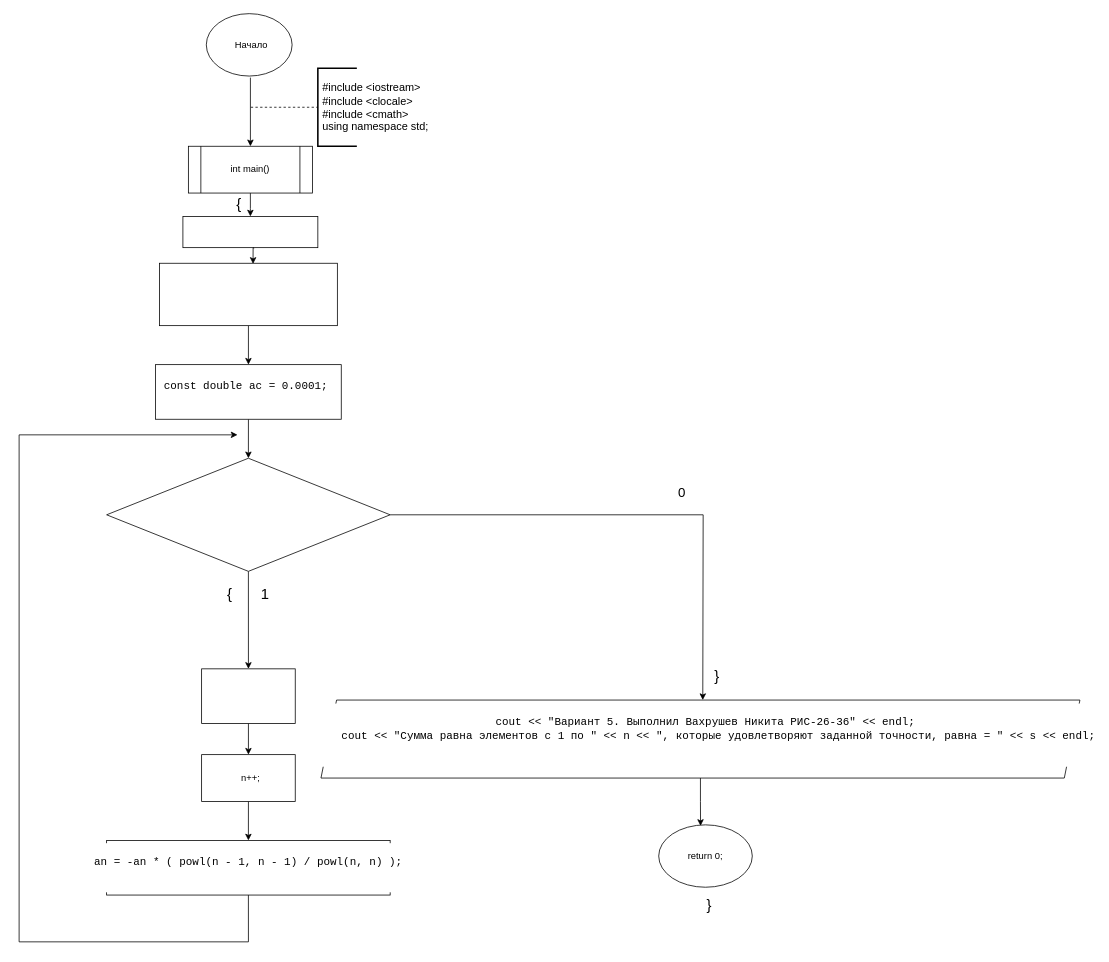
Image size: 1109x962. Some labels were removed from this diagram. The box of each missing label's shape, as (x1, y1, x2, y2) in pixels:
double s = 0 , n = 1 , an = 1 ;: (159, 262, 337, 326)
s = s + an ;: (201, 668, 295, 723)
setlocale(LC_ALL, ".UTF-8");: (182, 216, 318, 248)
while ( fabs ( an ) >= ac ): (106, 457, 390, 571)
